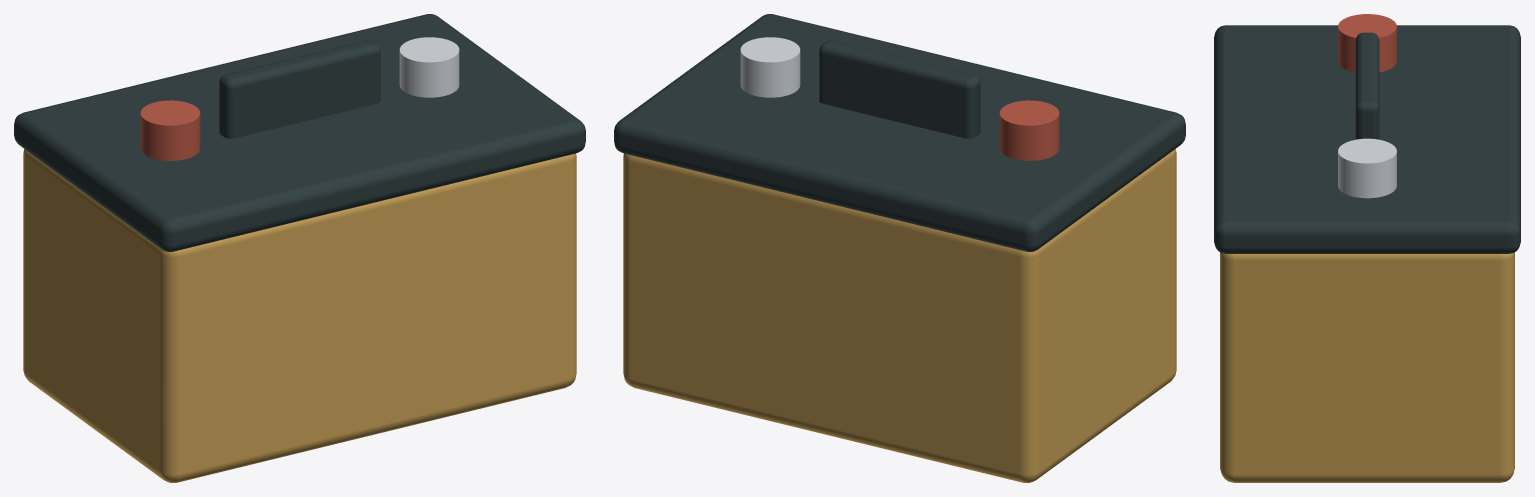
The model's file is battery.glb.
3 renders of one model, left to right at view 1: azimuth 30°, elevation 25°; view 2: azimuth 150°, elevation 25°; view 3: azimuth 270°, elevation 25°, orthographic.
Parts seen in each view (by area): view 1: battery; view 2: battery; view 3: battery.
Boxes of the visible parts, box(x1,y1,x2,y2) form: battery: box(14, 14, 585, 482); battery: box(614, 14, 1185, 482); battery: box(1214, 14, 1520, 482).
Bounding box in the file's own units: 0.82 × 0.6 × 0.52.
